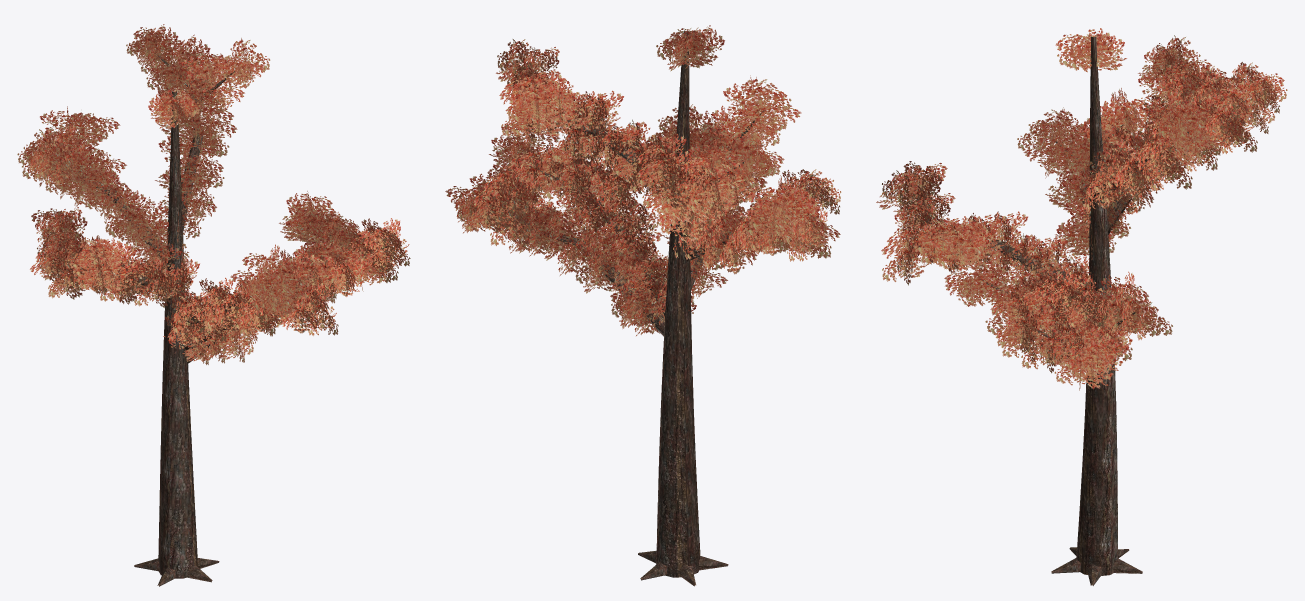
Rendered from tree_3d_01_copper_lod0.glb.
3 renders of one model, left to right at view 1: azimuth 30°, elevation 25°; view 2: azimuth 150°, elevation 25°; view 3: azimuth 270°, elevation 25°, orthographic. The views are drawn at different scales.
Visible parts, largest first — view 1: foliage_cards, wood_geometry; view 2: foliage_cards, wood_geometry; view 3: foliage_cards, wood_geometry.
Boxes of the visible parts, bbox=[...] form: foliage_cards: bbox=[17, 24, 410, 364]; wood_geometry: bbox=[56, 53, 388, 586]; foliage_cards: bbox=[445, 25, 841, 335]; wood_geometry: bbox=[506, 31, 789, 586]; foliage_cards: bbox=[876, 28, 1287, 390]; wood_geometry: bbox=[913, 36, 1249, 585].
Size of the model in its own units: 7.11 by 9.14 by 6.44.
Materials: 2 (2 with a texture image).
